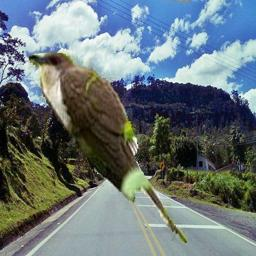Cuckoo: (28, 50, 187, 243)
